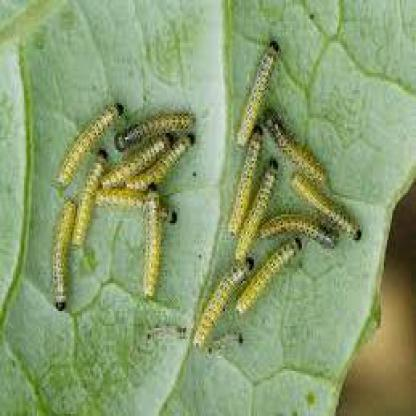pieris: (56, 104, 126, 191), (234, 159, 281, 262), (238, 240, 303, 314), (238, 40, 282, 149), (53, 199, 81, 311), (144, 177, 167, 297)
